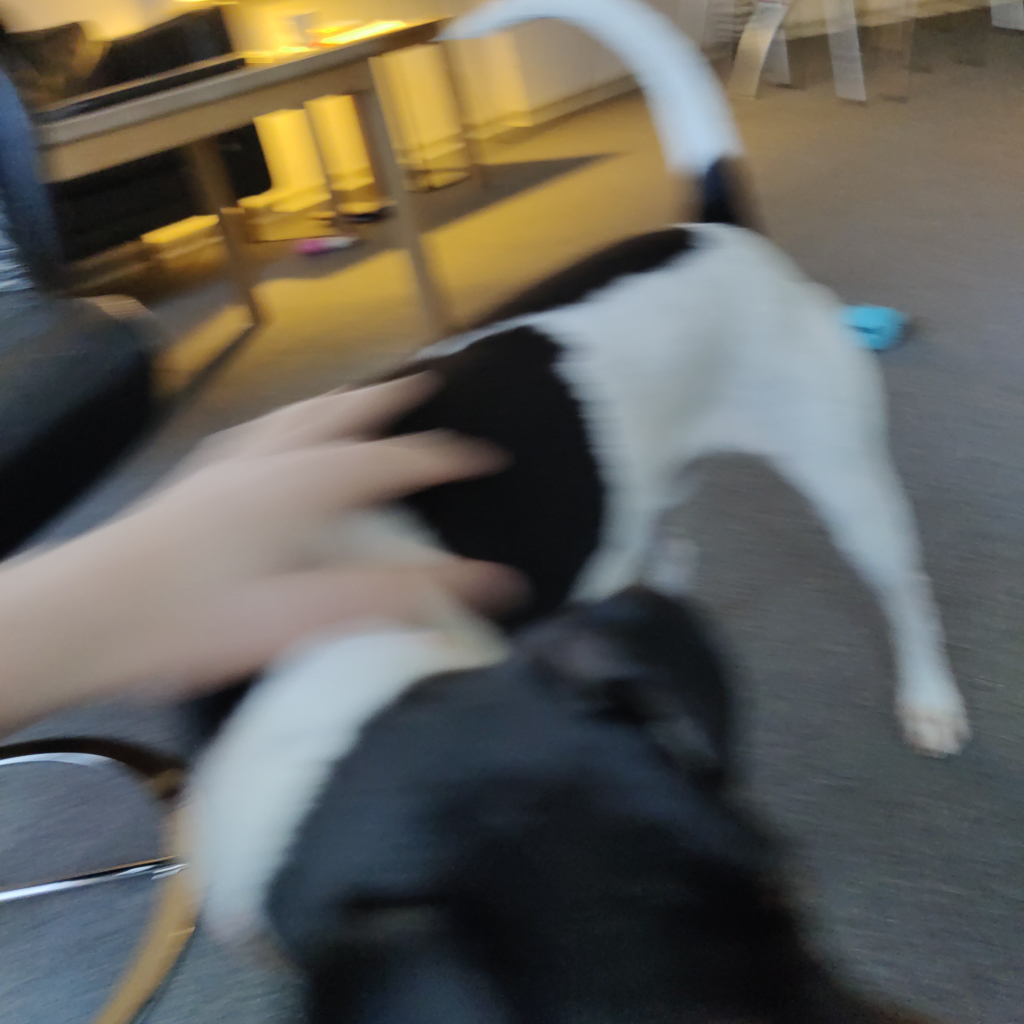Dog: (145, 0, 1024, 1024)
Humanoid: (0, 345, 604, 793)
